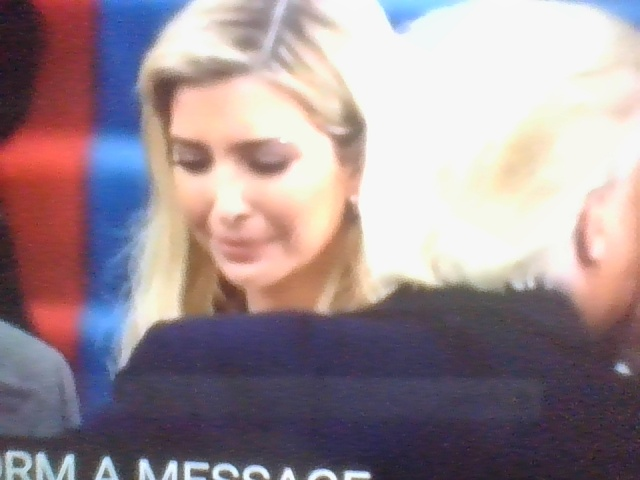fake: (148, 0, 377, 324)
